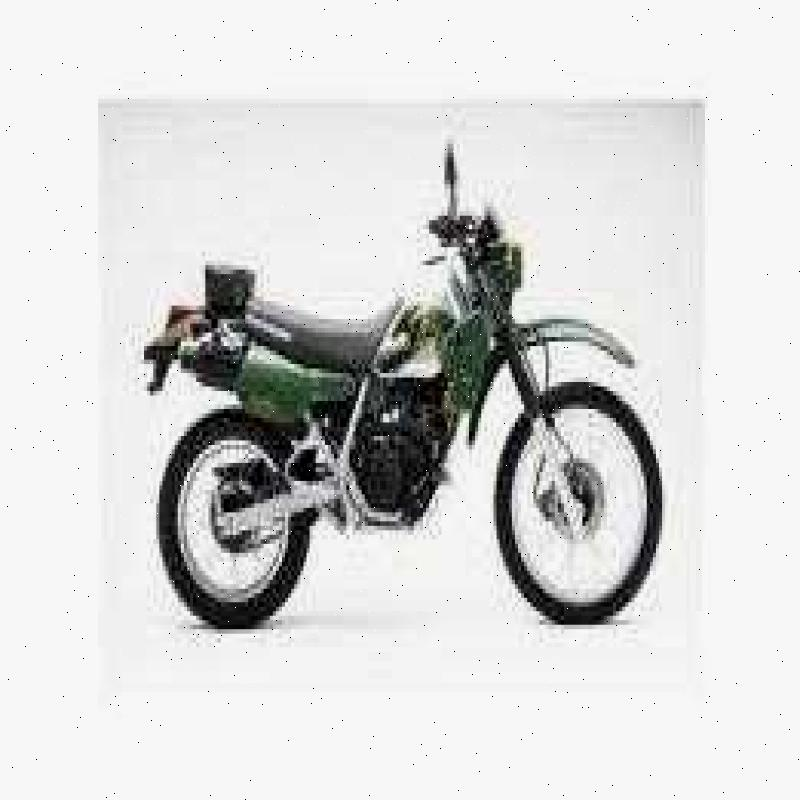bike: (109, 106, 681, 628)
